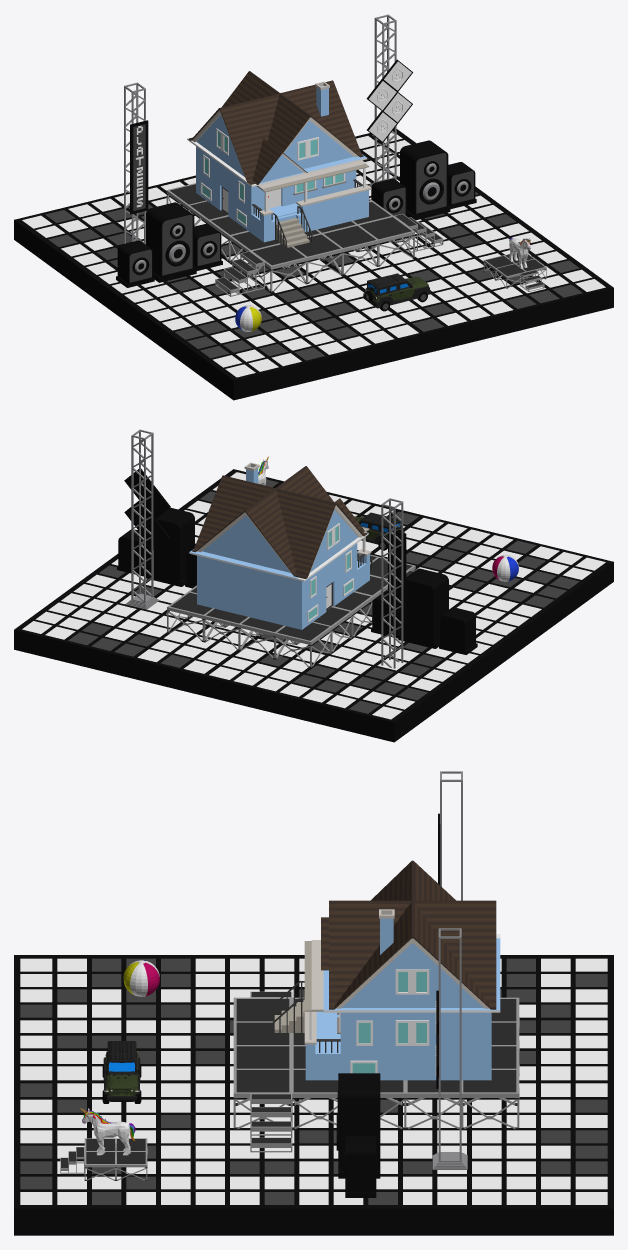
3 views of the same model, one above another, from view 1: azimuth 30°, elevation 25°; view 2: azimuth 150°, elevation 25°; view 3: azimuth 270°, elevation 25° (orthographic). The views are drawn at different scales.
Visible parts, largest first — view 1: Cube.008, Cube.1594, VEHICLES_JEEP, OBJRANDOM_BEACHBALL; view 2: Cube.008, Cube.1594, VEHICLES_JEEP, OBJRANDOM_BEACHBALL; view 3: Cube.008, Cube.1594, VEHICLES_JEEP, ANIMAL_UNICORNIO, OBJRANDOM_BEACHBALL.
Part boxes in pixels (bbox=[...]): Cube.008: bbox=[14, 14, 613, 400]; Cube.1594: bbox=[187, 71, 371, 248]; VEHICLES_JEEP: bbox=[363, 273, 430, 311]; OBJRANDOM_BEACHBALL: bbox=[235, 305, 261, 331]; Cube.008: bbox=[14, 429, 613, 742]; Cube.1594: bbox=[189, 462, 372, 629]; VEHICLES_JEEP: bbox=[354, 512, 404, 550]; OBJRANDOM_BEACHBALL: bbox=[492, 554, 518, 581]; Cube.008: bbox=[14, 771, 613, 1235]; Cube.1594: bbox=[272, 860, 500, 1080]; VEHICLES_JEEP: bbox=[102, 1041, 141, 1103]; ANIMAL_UNICORNIO: bbox=[80, 1108, 135, 1155]; OBJRANDOM_BEACHBALL: bbox=[123, 960, 159, 996].
Size of the model in its own units: 4000 by 1972 by 4000.
Materials: 50 (1 with a texture image).
